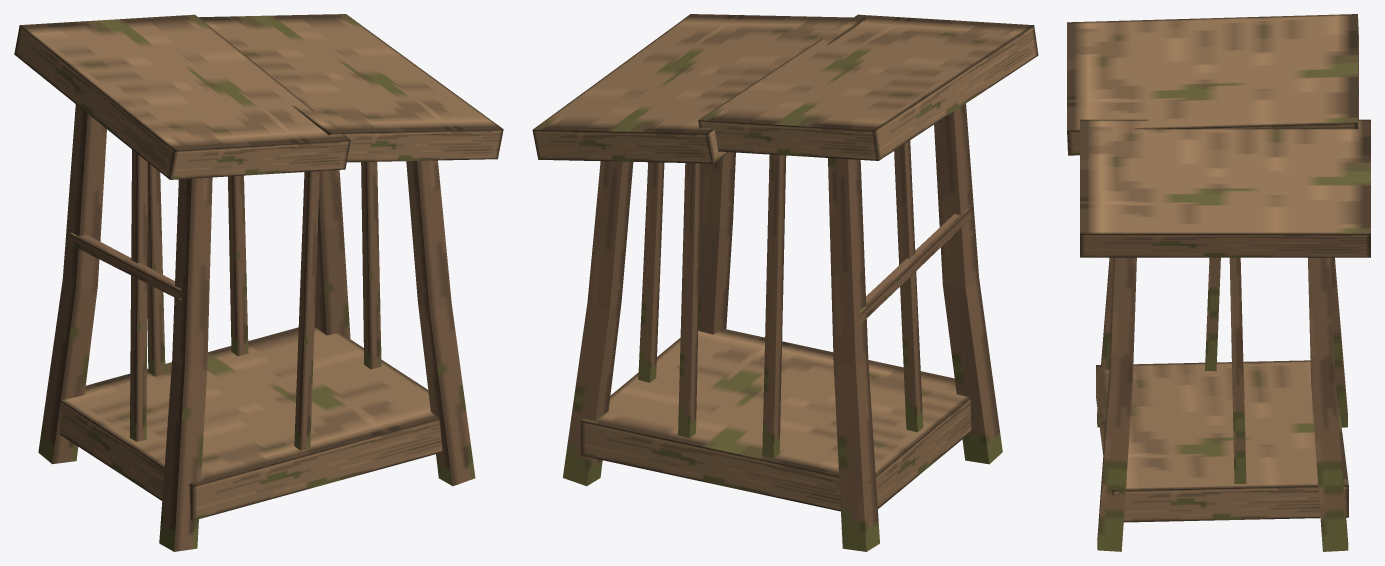
The model's file is SM_MK14_CageCrooked.fbx.
3 views of the same model, side by side, from view 1: azimuth 30°, elevation 25°; view 2: azimuth 150°, elevation 25°; view 3: azimuth 270°, elevation 25° (orthographic). The views are drawn at different scales.
Parts seen in each view (by area): view 1: MK14_Cage; view 2: MK14_Cage; view 3: MK14_Cage.
Boxes of the visible parts, x1,y1,x2,y2 form: MK14_Cage: (14,14,503,551); MK14_Cage: (532,14,1038,551); MK14_Cage: (1067,14,1370,551).
Size of the model in its own units: 0.6107 by 0.7396 by 0.5116.
